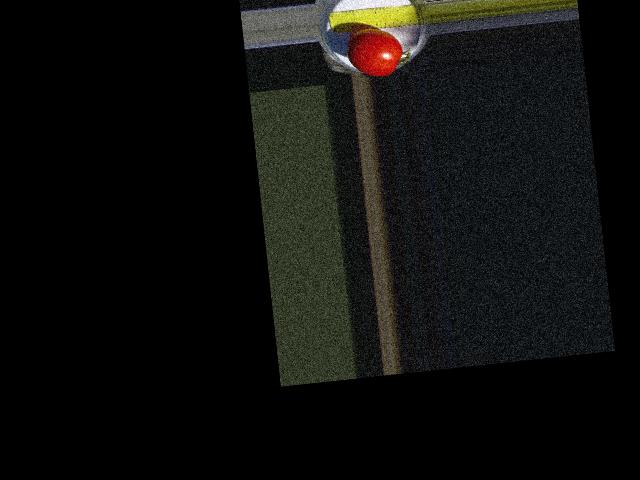tomato: (345, 24, 405, 80)
